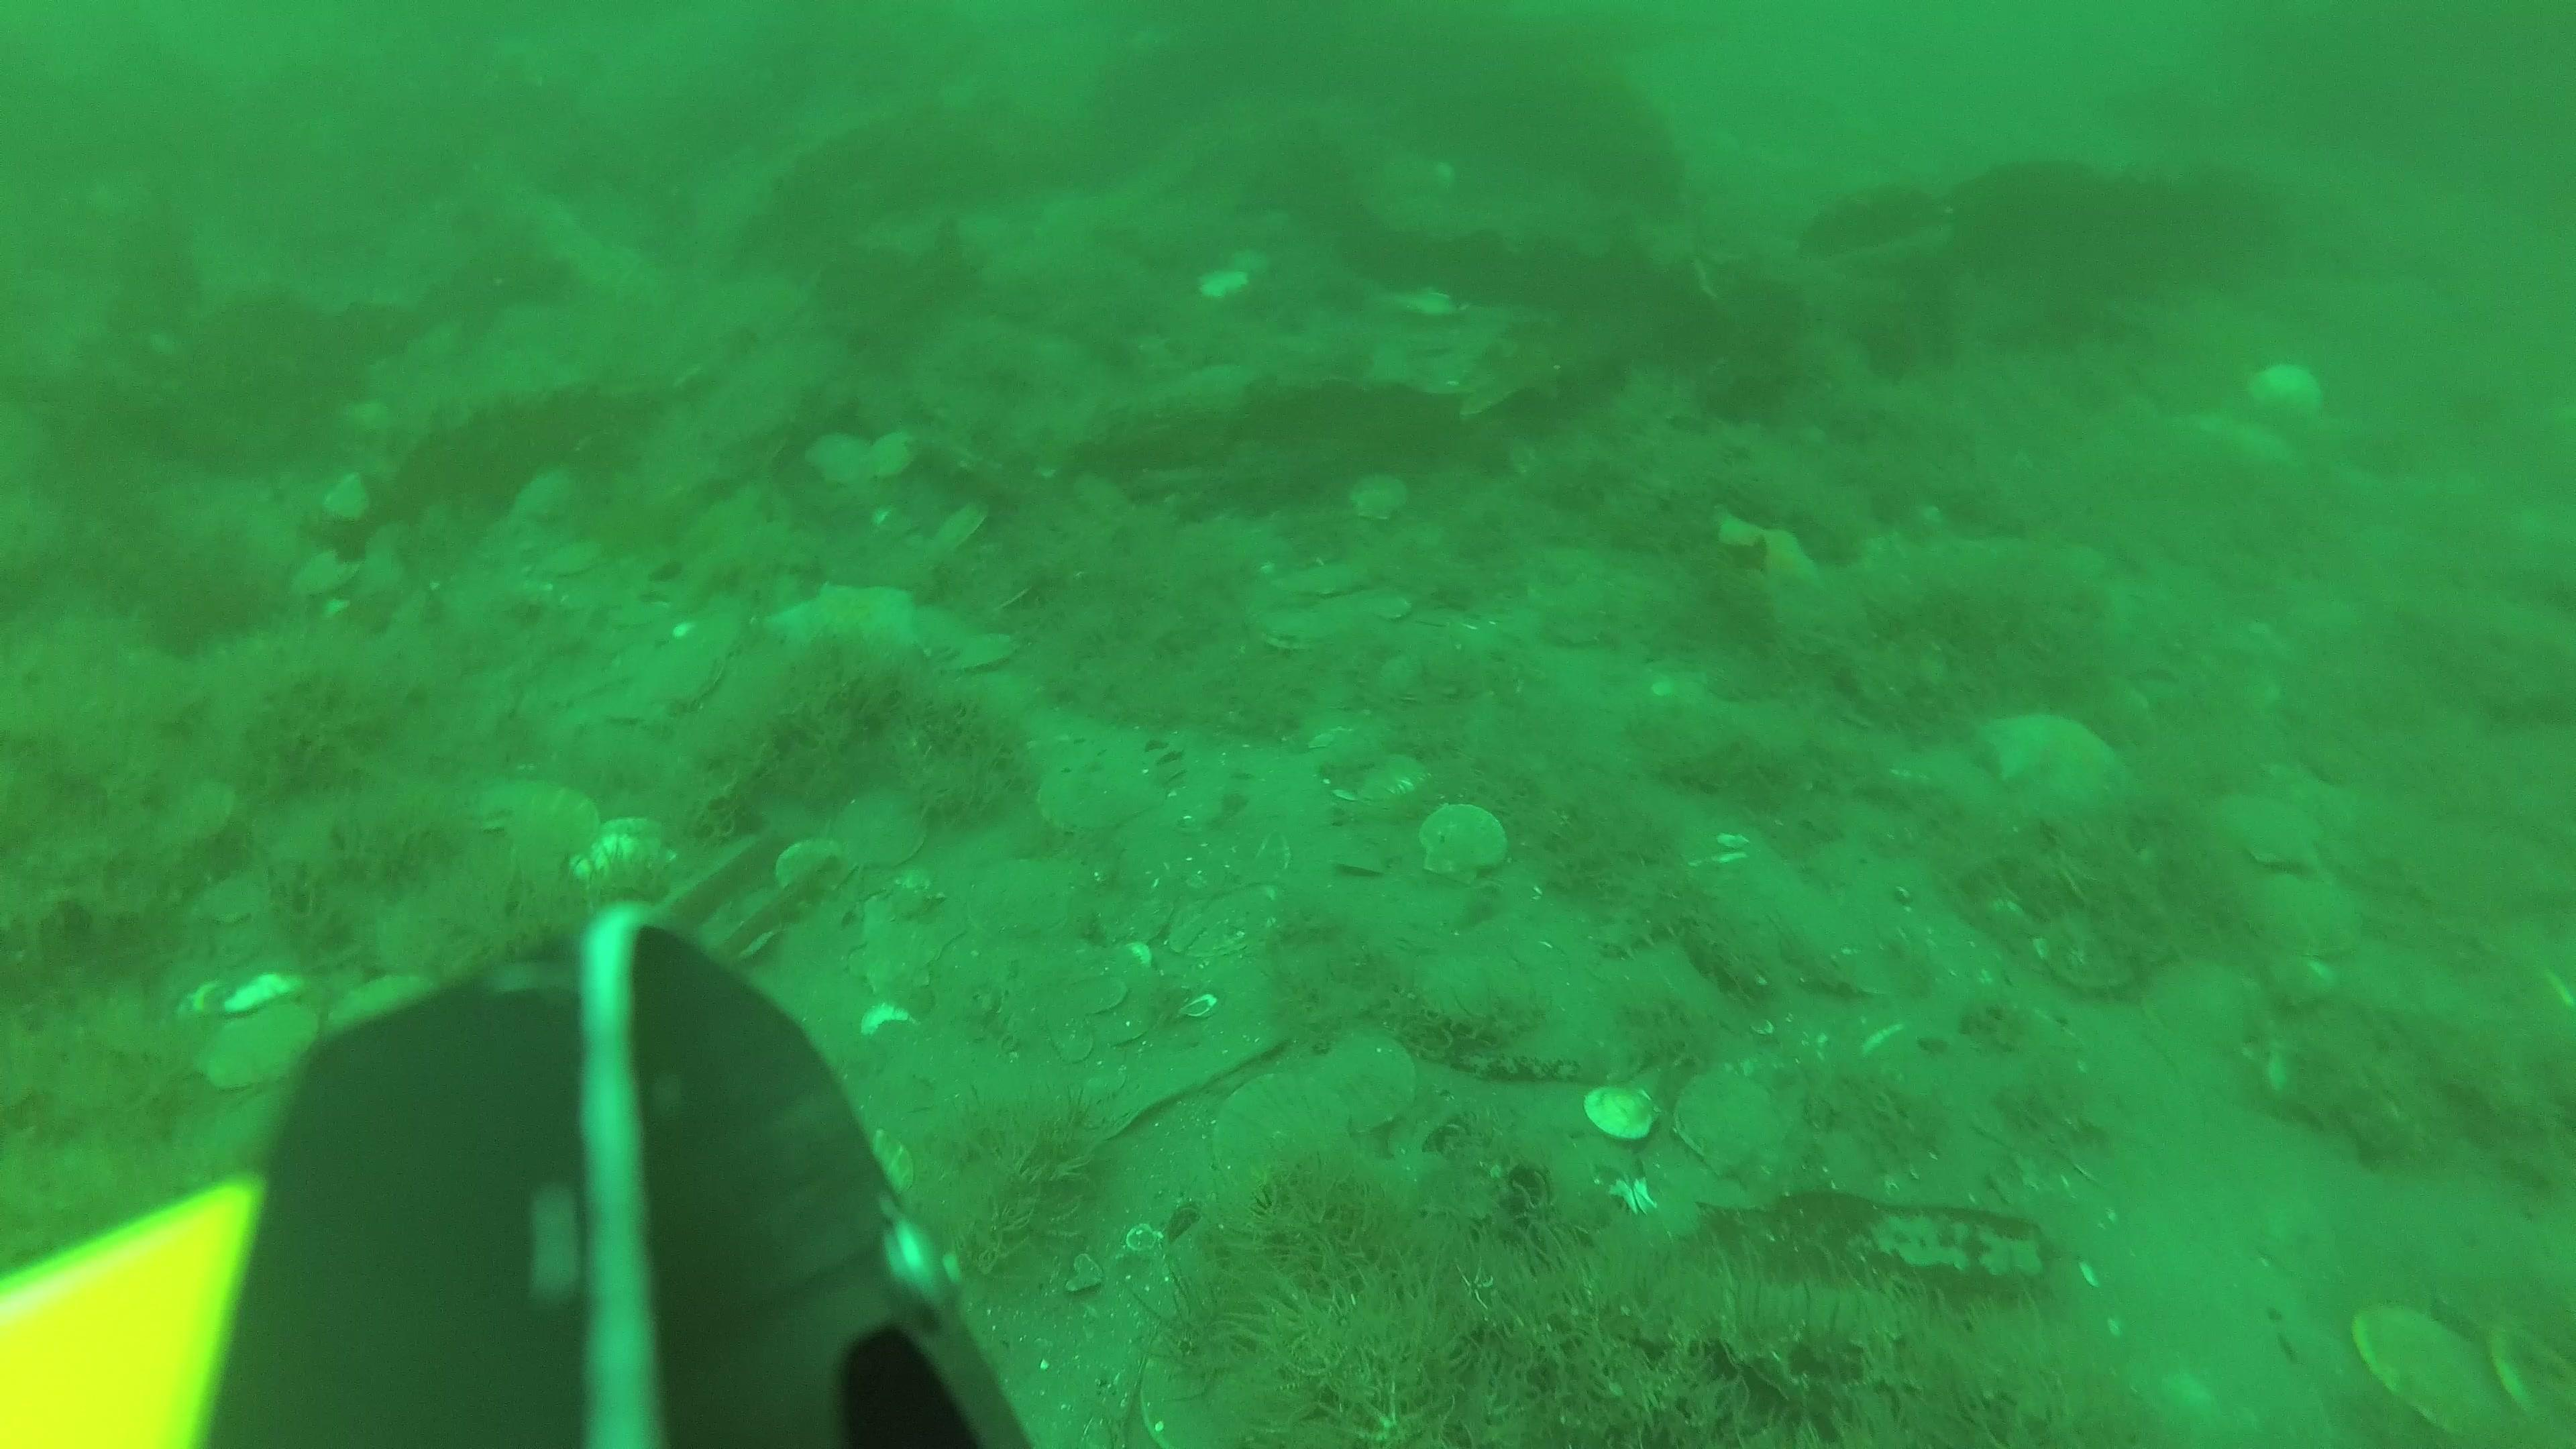holothurian: (1591, 888, 1693, 962)
scallop: (2355, 1295, 2496, 1449), (1205, 1063, 1361, 1182), (1134, 1332, 1269, 1449), (1674, 1056, 1789, 1177), (957, 851, 1099, 947), (2479, 1311, 2576, 1449), (485, 766, 602, 878), (189, 1003, 322, 1093), (1309, 1035, 1430, 1134), (2143, 950, 2261, 1049), (2238, 872, 2369, 961), (1035, 754, 1168, 839), (1415, 950, 1536, 1042), (2212, 782, 2327, 874), (1166, 881, 1292, 962), (566, 814, 685, 899), (614, 635, 725, 722), (2033, 908, 2146, 991), (1417, 794, 1511, 890), (840, 780, 927, 870), (2238, 354, 2332, 426), (1582, 1074, 1668, 1152), (1249, 602, 1361, 656), (1341, 747, 1435, 810), (778, 830, 856, 899), (936, 621, 1026, 678), (1380, 648, 1467, 706), (801, 430, 878, 490), (295, 547, 370, 605), (936, 490, 994, 561), (1346, 467, 1415, 525), (534, 536, 609, 589), (1283, 557, 1371, 602), (865, 428, 915, 483)
starfish: (1985, 692, 2134, 810), (761, 570, 924, 676)
